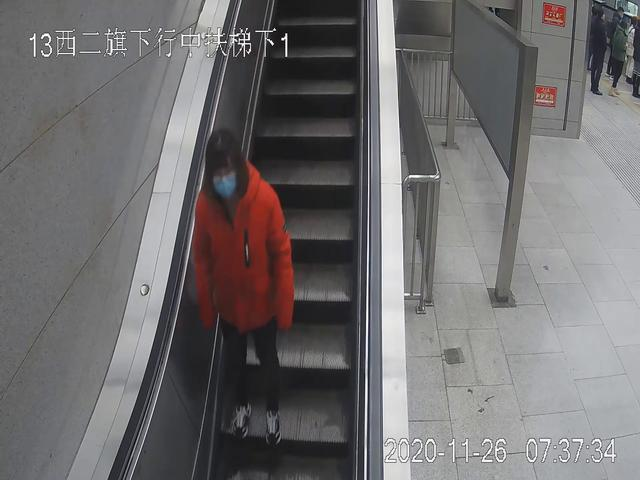person: (194, 130, 296, 447), (592, 10, 613, 97), (609, 20, 625, 89)
